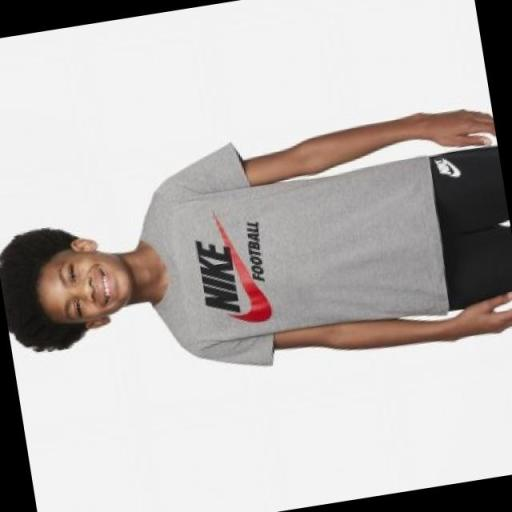Nike: (220, 222, 278, 327), (194, 234, 244, 318)
